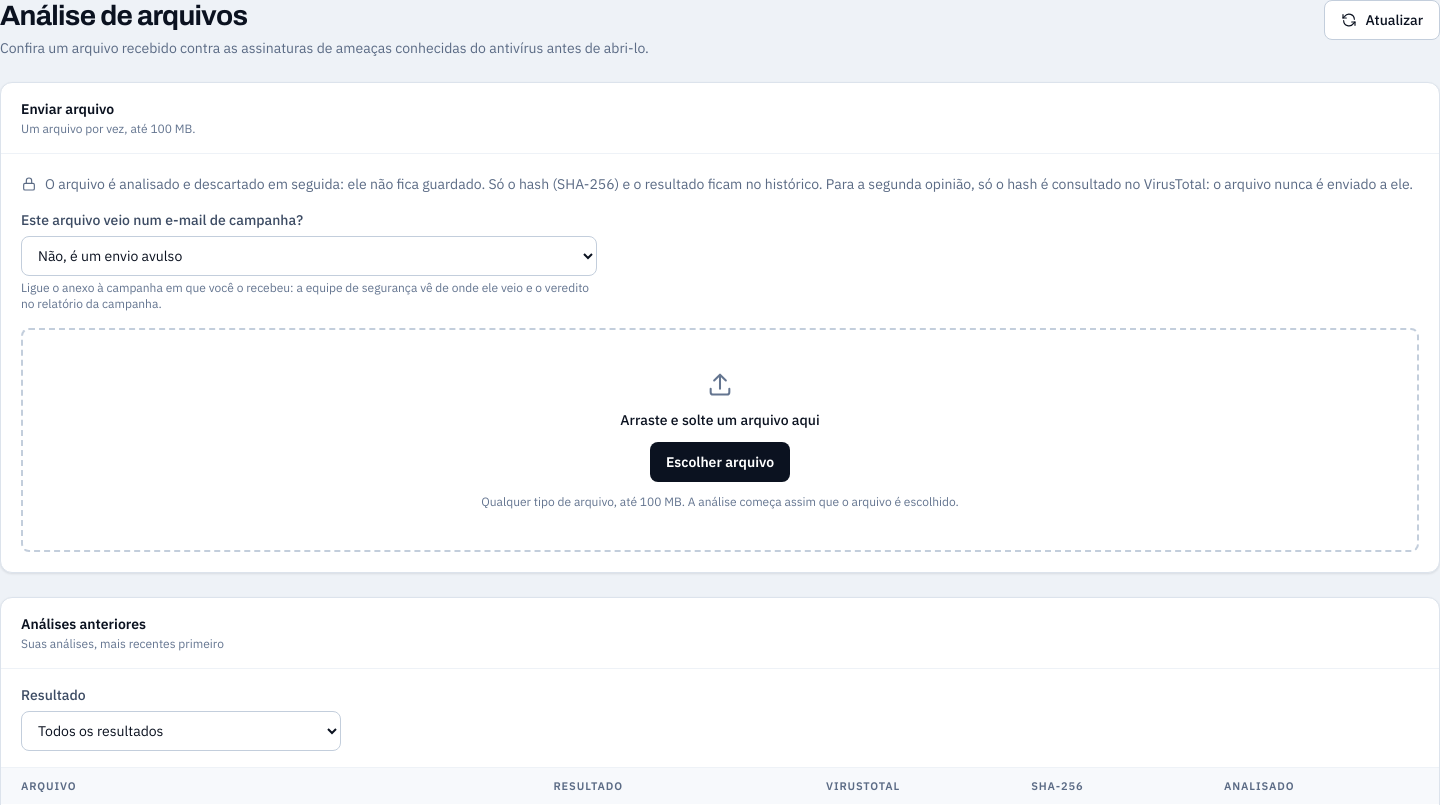
Test: FileAnalysisPage (B05) › filtro sem resultado mostra a linha vazia e "Limpar filtro" volta a todos
Note: O colaborador do seed não tem análise com ameaça.
Select "Com ameaça" in the dropdown labelled "Resultado" at x=181, y=731, box [21,711,341,751]
(page scrolled)
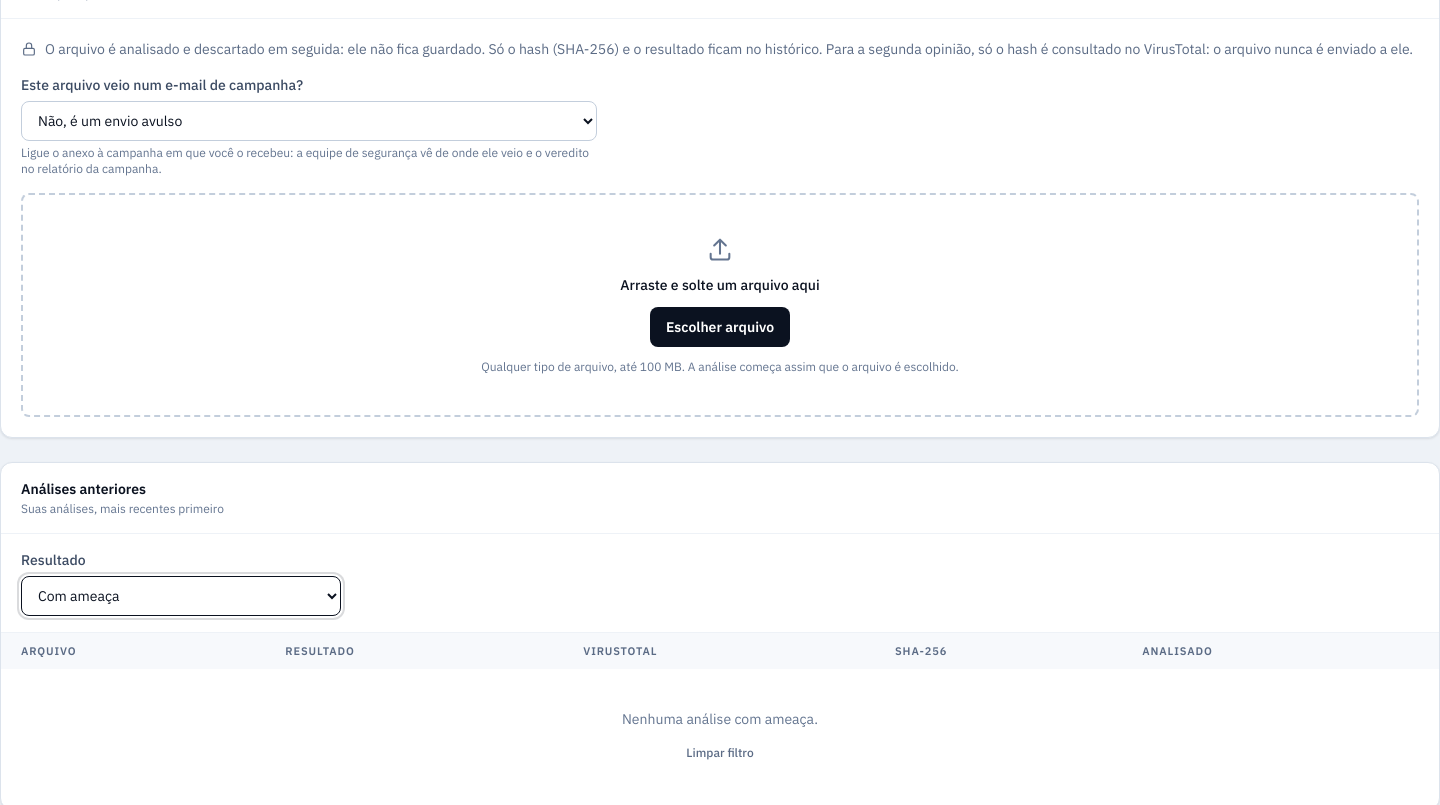
Check: the text "Nenhuma análise com ameaça." is shown, box [622,710,818,728]
Click the button "Limpar filtro" at x=720, y=753, box [674,737,766,769]
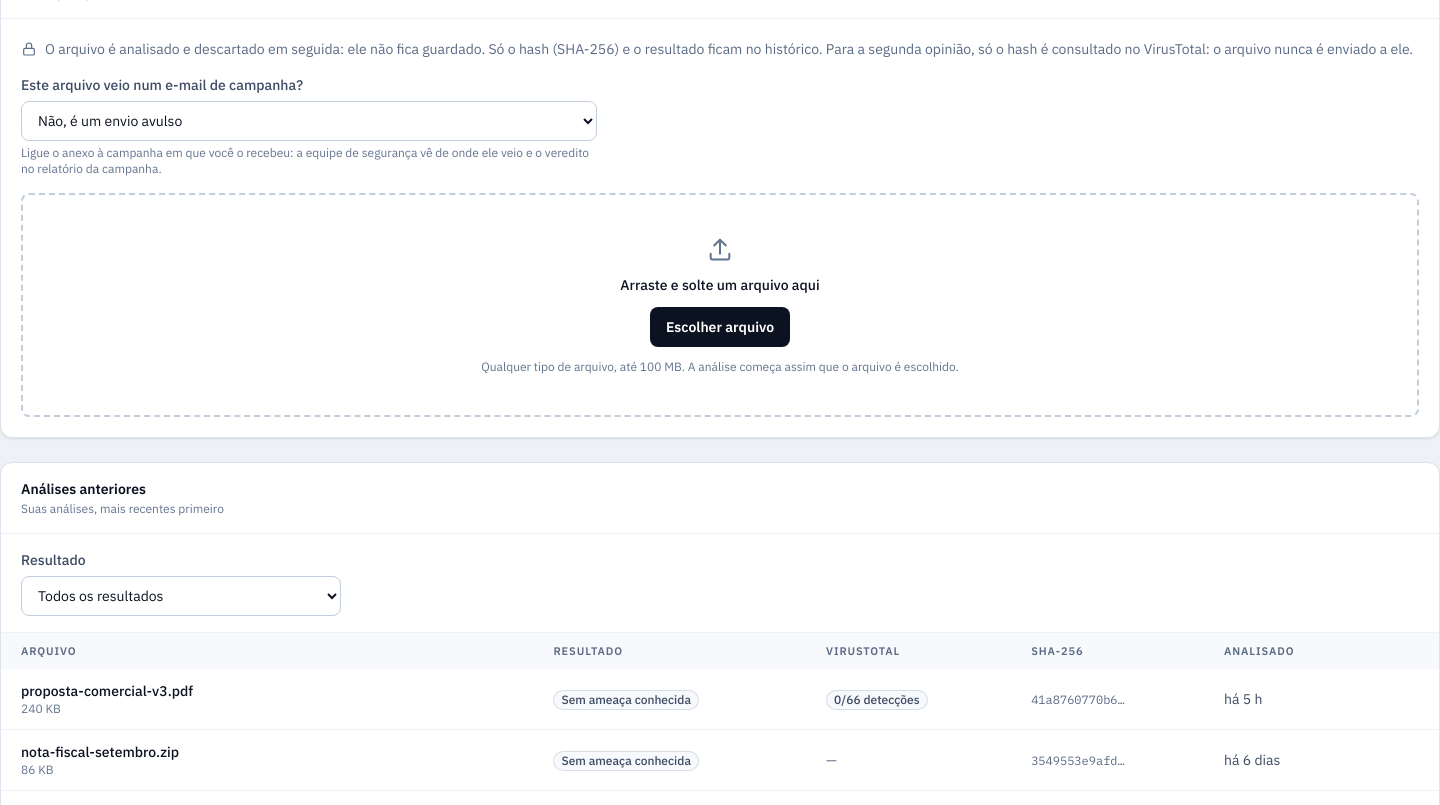
Check: the text "proposta-comercial-v3.pdf" is shown, box [21,682,193,700]
Check: the dropdown labelled "Resultado" shows "Todos os resultados", box [21,576,341,616]
